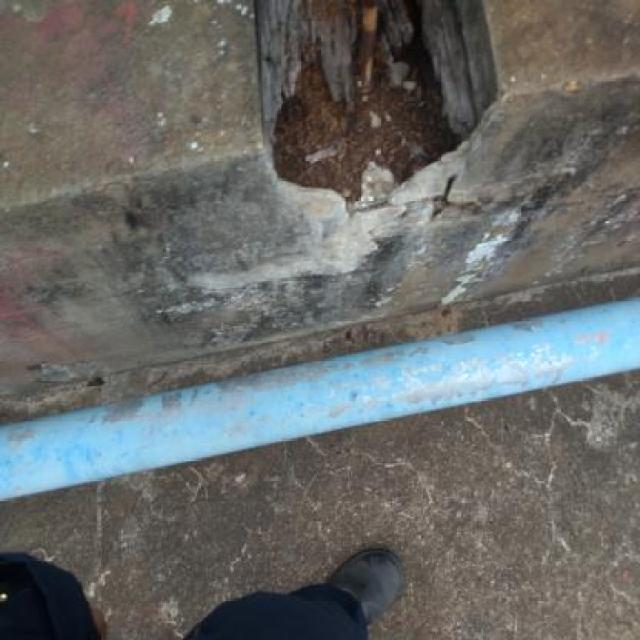gas: (3, 292, 640, 501)
